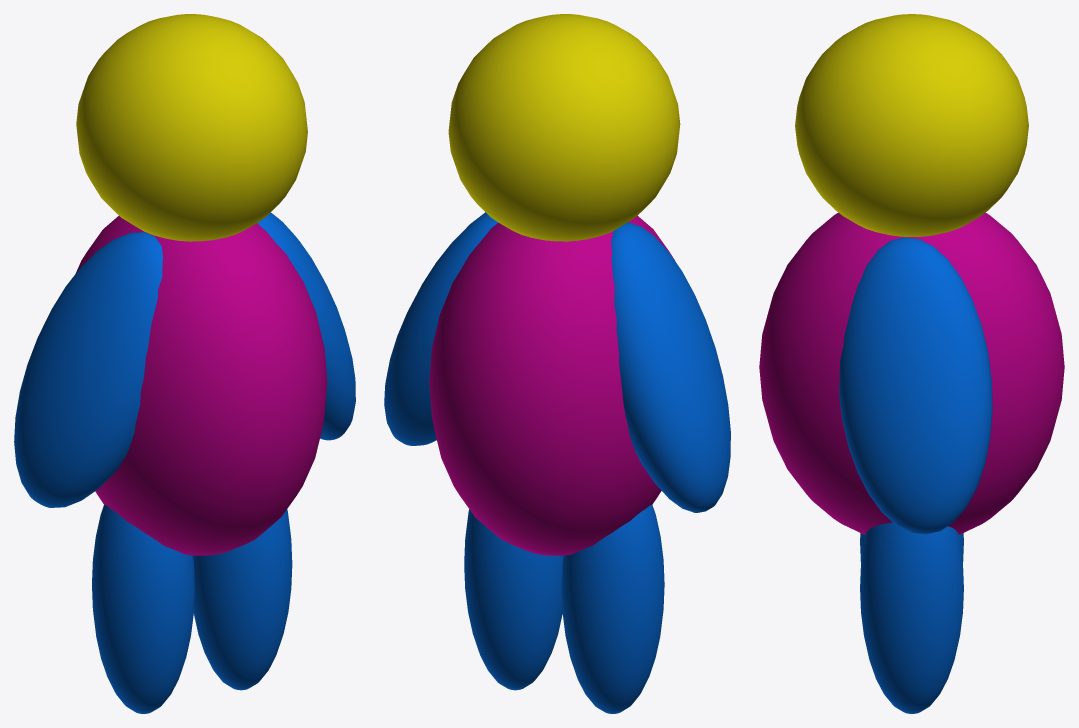
File: player.fbx
3 views of the same model, side by side, from view 1: azimuth 30°, elevation 25°; view 2: azimuth 150°, elevation 25°; view 3: azimuth 270°, elevation 25° (orthographic).
Parts seen in each view (by area): view 1: Sphere; view 2: Sphere; view 3: Sphere.
Boxes of the visible parts, box(x1,y1,x2,y2) form: Sphere: box(14, 14, 355, 713); Sphere: box(384, 14, 730, 713); Sphere: box(759, 14, 1064, 713).
Bounding box in the file's own units: 0.3 × 0.6 × 0.25.
